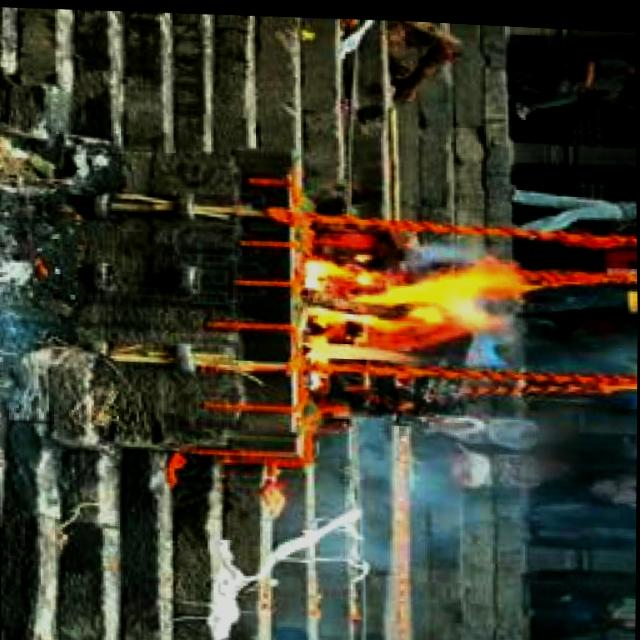helmet: (295, 242, 530, 388)
